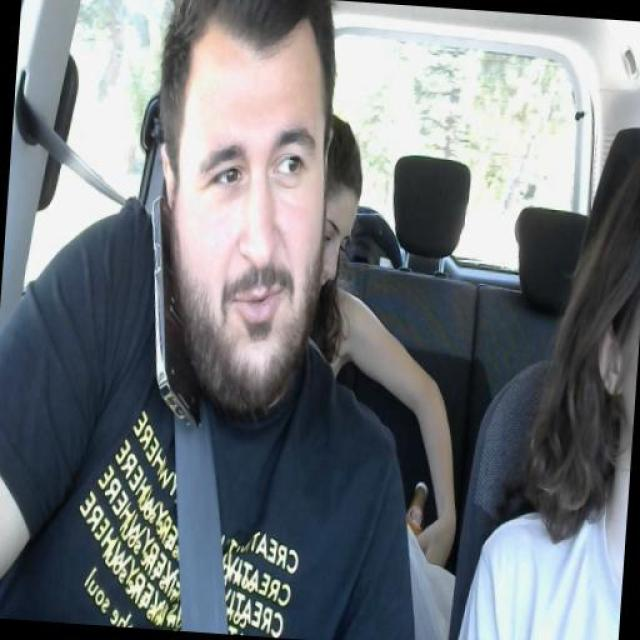phone: (150, 196, 200, 432)
